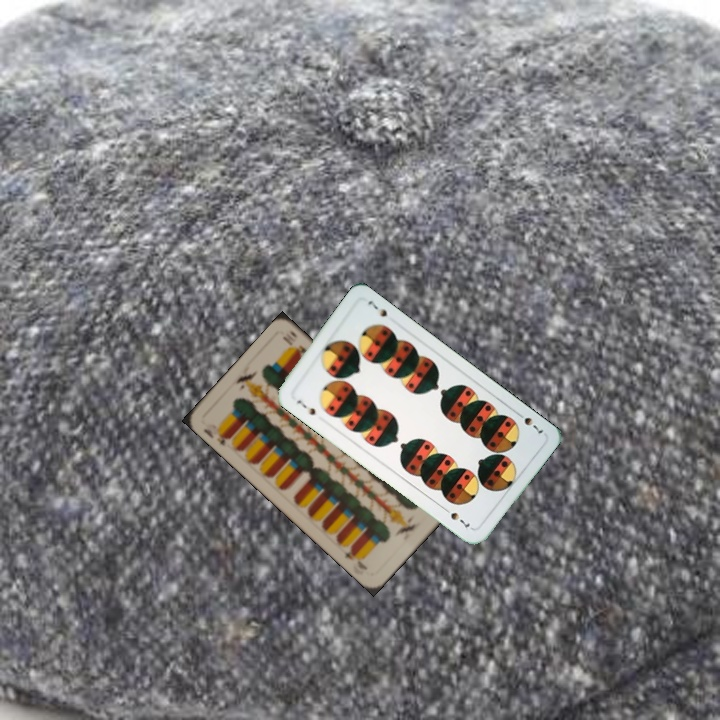E10: (199, 424, 234, 449)
S7: (512, 407, 546, 436), (292, 395, 320, 418)
